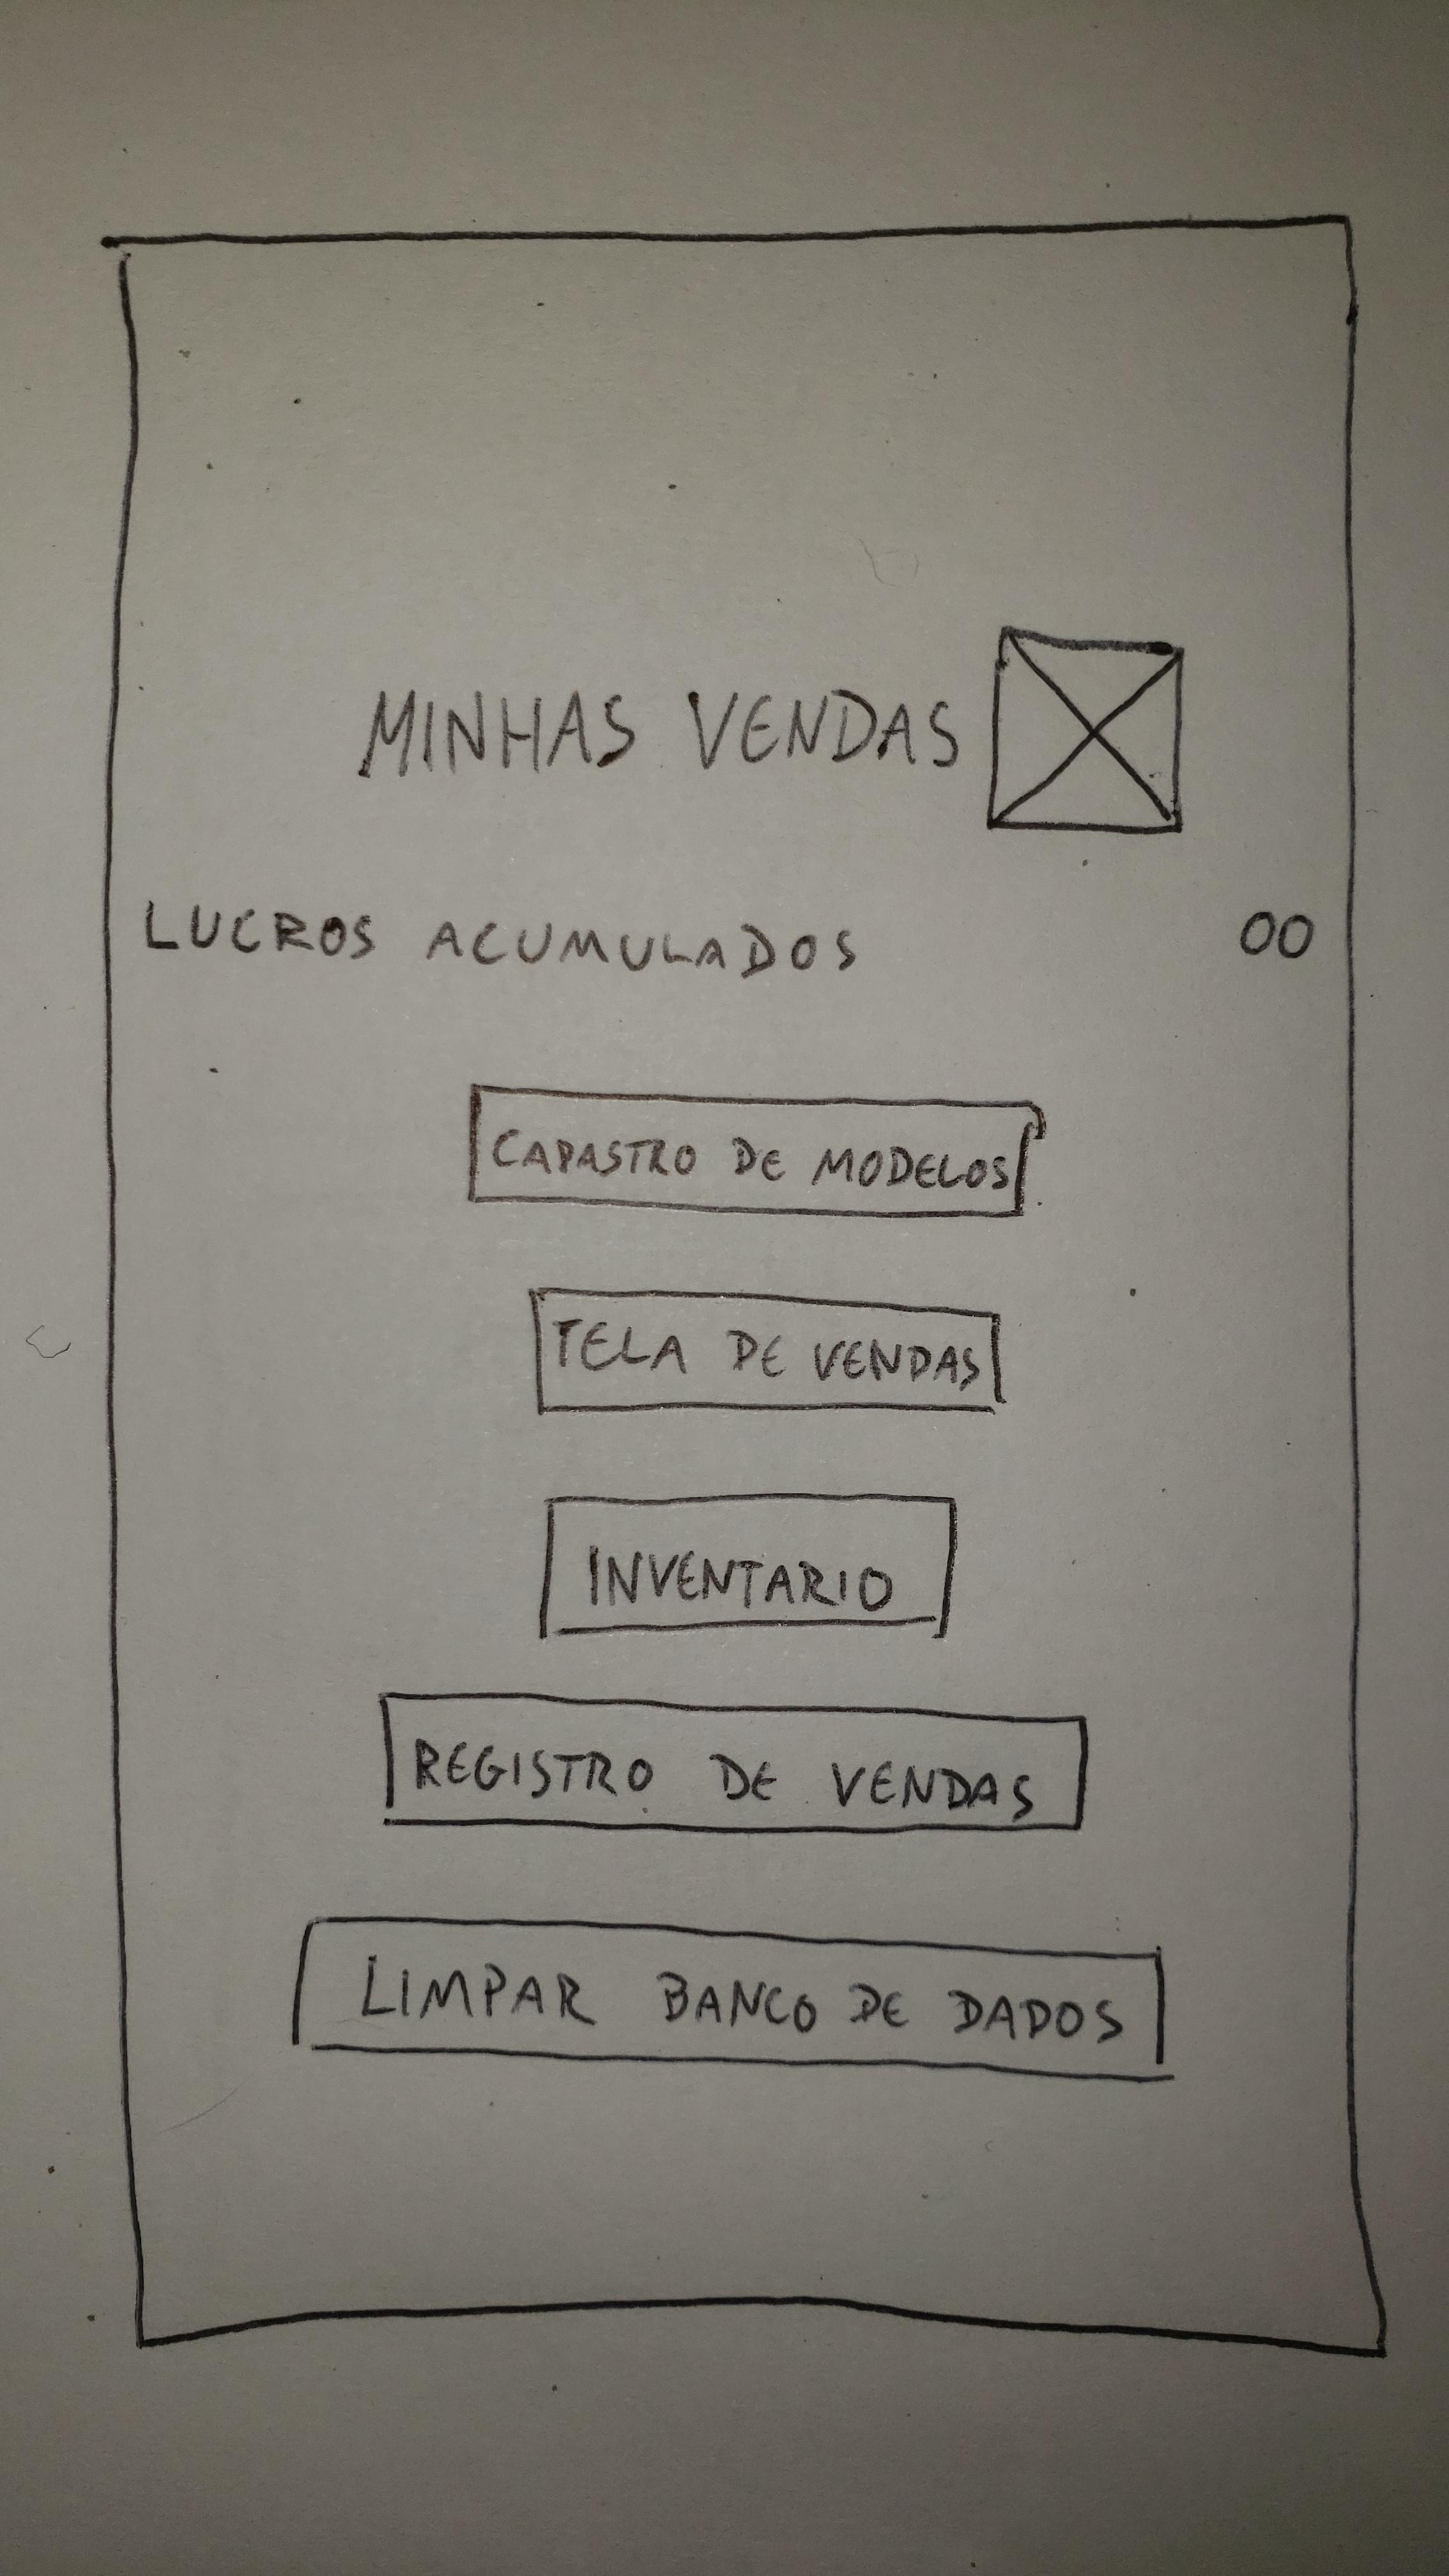Button: (288, 1916, 1166, 2084), (380, 1691, 1088, 1835), (469, 1083, 1046, 1219), (525, 1286, 1008, 1415), (538, 1493, 957, 1637)
Image: (985, 625, 1185, 835)
Label: (357, 683, 966, 780), (142, 899, 862, 978), (1235, 908, 1322, 962)
Screen: (104, 211, 1391, 2358)
